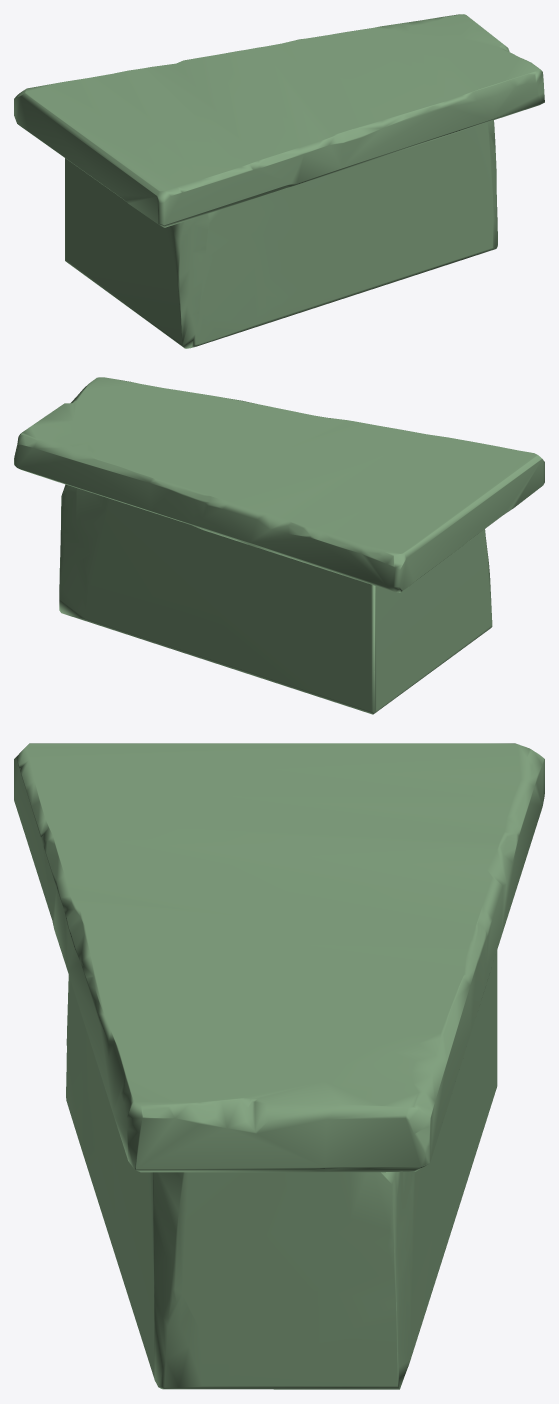
The model's file is SM_TempleBlock01.fbx.
3 renders of one model, top to bottom at view 1: azimuth 30°, elevation 25°; view 2: azimuth 150°, elevation 25°; view 3: azimuth 270°, elevation 25°, orthographic. The views are drawn at different scales.
Parts seen in each view (by area): view 1: SM_TempleBlock01; view 2: SM_TempleBlock01; view 3: SM_TempleBlock01.
Part boxes in pixels (bbox=[...]): SM_TempleBlock01: bbox=[14, 14, 544, 348]; SM_TempleBlock01: bbox=[14, 377, 544, 714]; SM_TempleBlock01: bbox=[14, 743, 544, 1389].
Bounding box in the file's own units: 1189 × 474 × 722.
